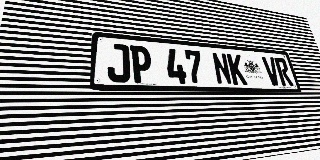4: (165, 48, 187, 84)
7: (183, 50, 205, 84)
J: (107, 43, 131, 83)
K: (226, 53, 248, 85)
N: (211, 52, 233, 85)
P: (130, 45, 153, 83)
R: (274, 57, 294, 86)
V: (261, 56, 282, 86)
